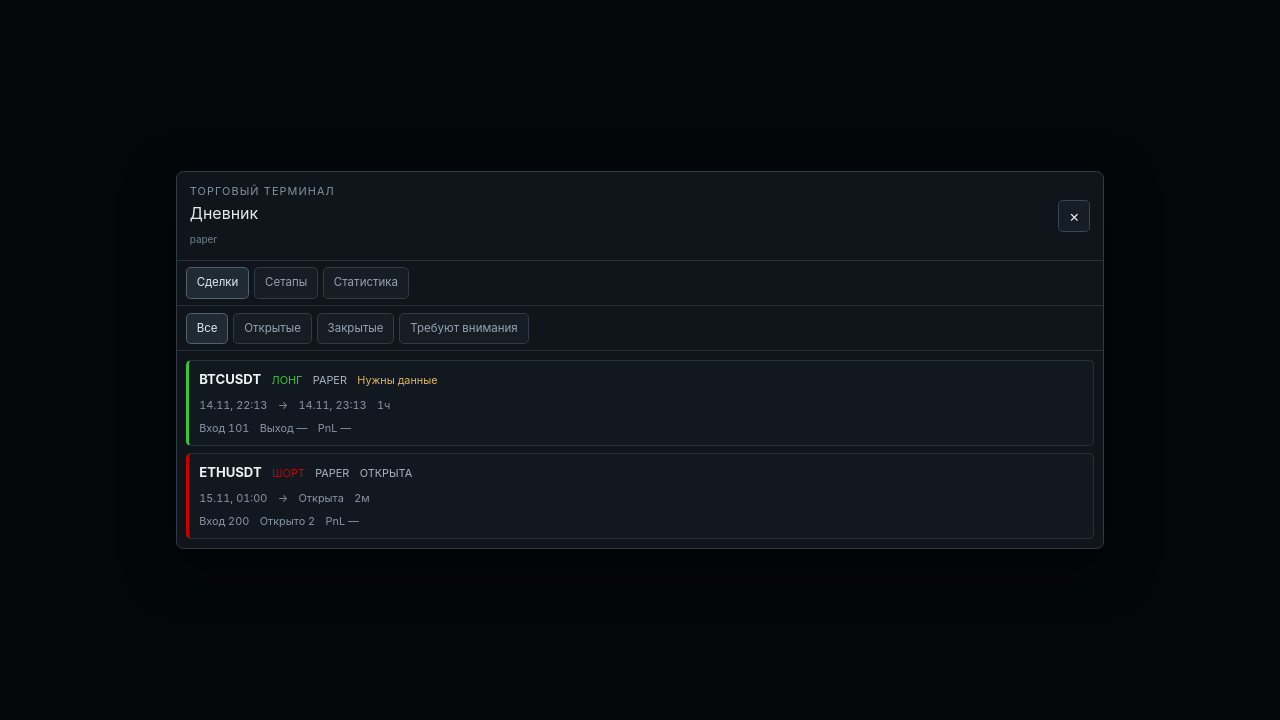
Test: DiaryOverlay › opens Setups as Сетапы and exposes attention evidence read-only
Expected: the text "BTCUSDT" is shown, [199,370,261,390]
Step 1. Click the button "Сетапы" → (286,283), box [254,267,318,299]
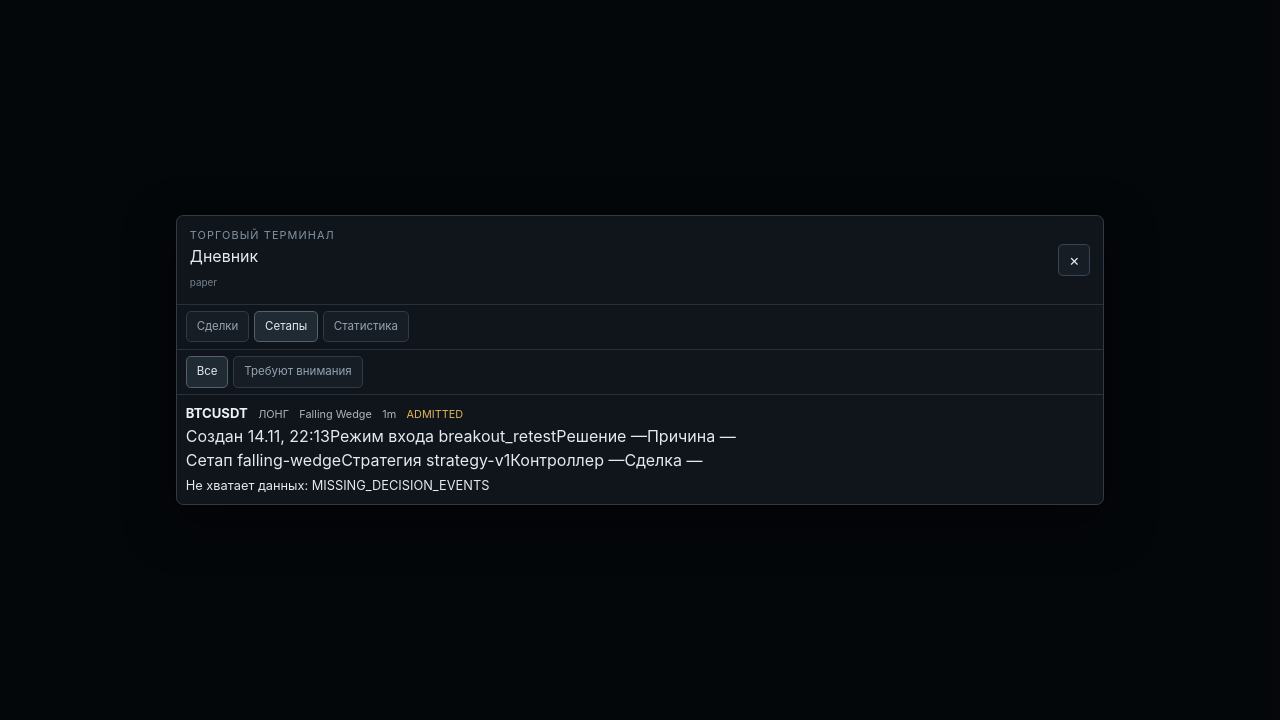
Expected: the text "ЛОНГ" is shown, [258,406,289,422]
Expected: the text "Режим входа breakout_retest" is shown, [330,426,556,446]
Expected: the text "Не хватает данных: MISSING_DECISION_EVENTS" is shown, [186,478,489,492]
